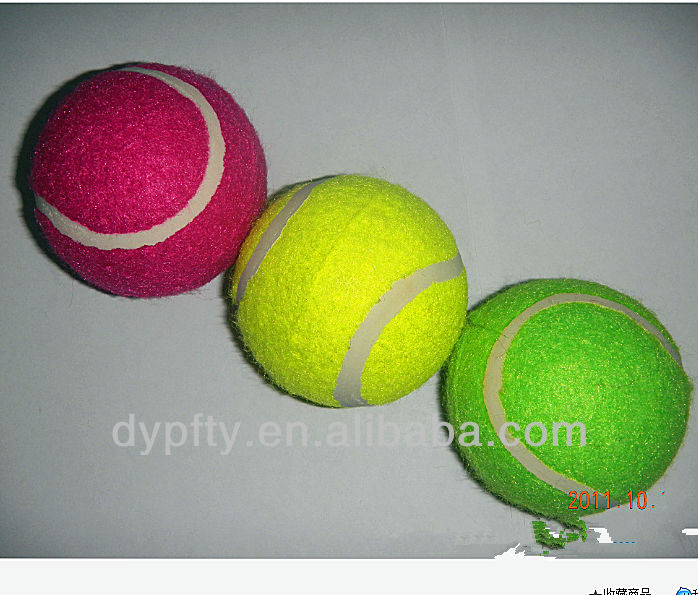red ball: (27, 63, 271, 302)
